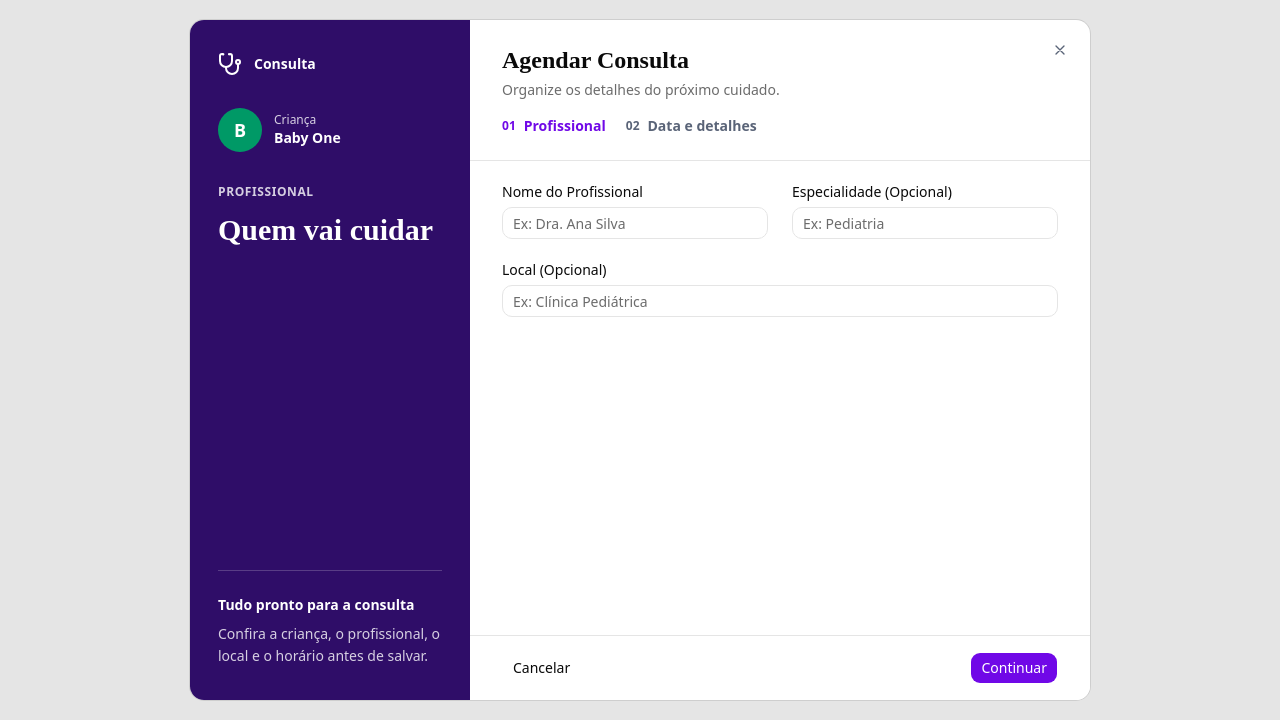
AddAppointmentDialog › não oferece peso e altura enquanto a consulta é um agendamento
Type "Dra. Ana Silva" into the dropdown labelled "Nome do Profissional" at {"x": 635, "y": 223}, box 502,207 -> 768,239
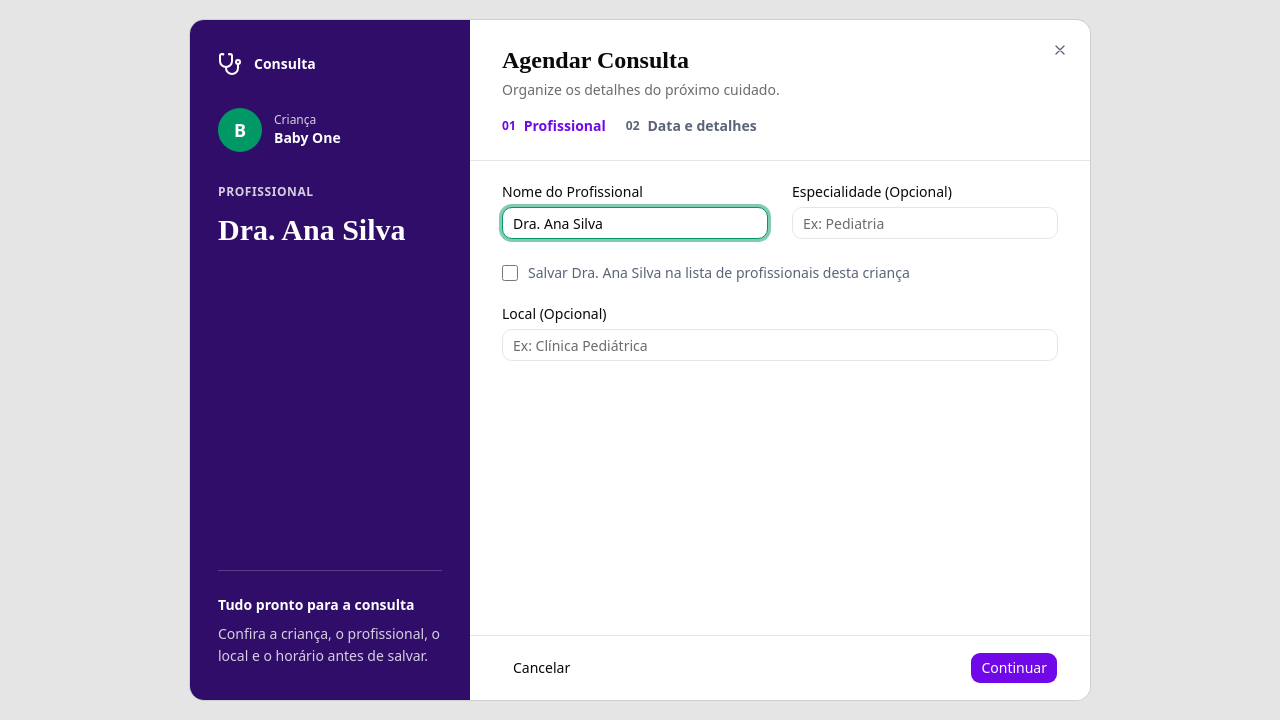
Click the button "Continuar" at {"x": 1014, "y": 668}, box 970,652 -> 1058,684
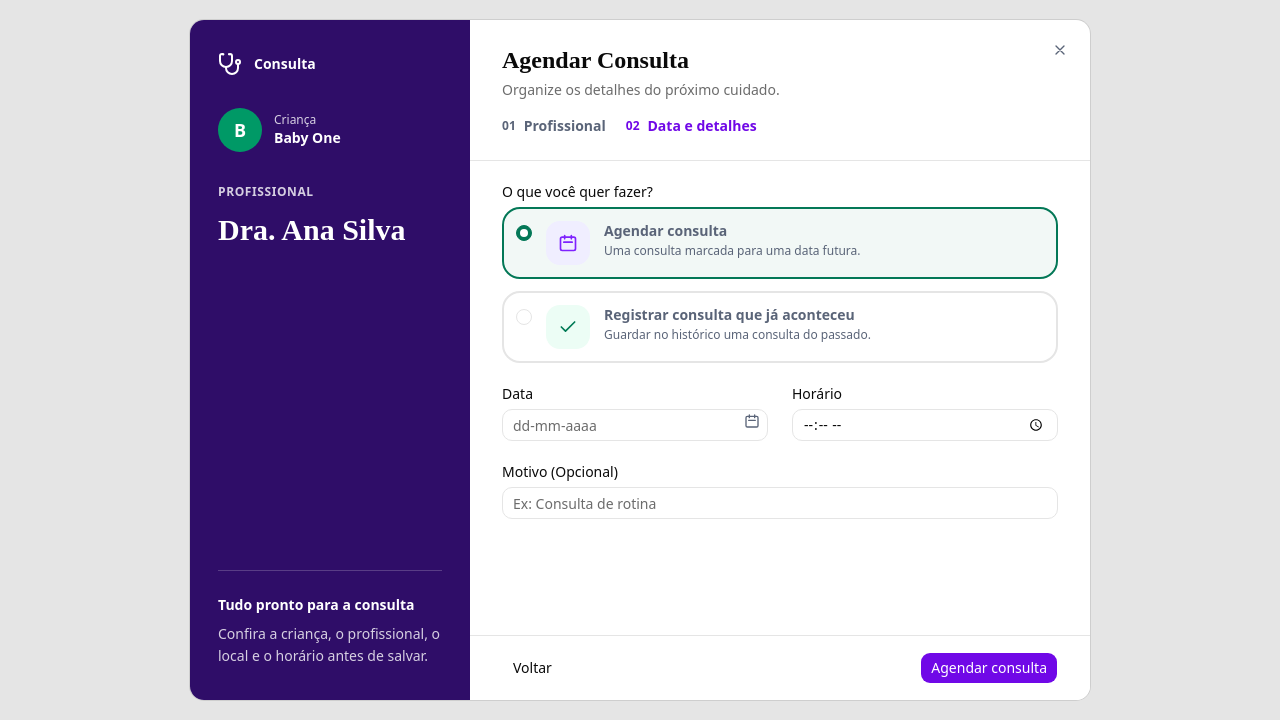
Expected: the field labelled "Peso (kg)" is not shown
Result: the field labelled "Data" is shown at 502,409 -> 768,441
Click the radio button named "Registrar consulta que já aconteceu" next to "Registrar consulta que já aconteceu" at {"x": 524, "y": 317}, box 516,309 -> 532,325
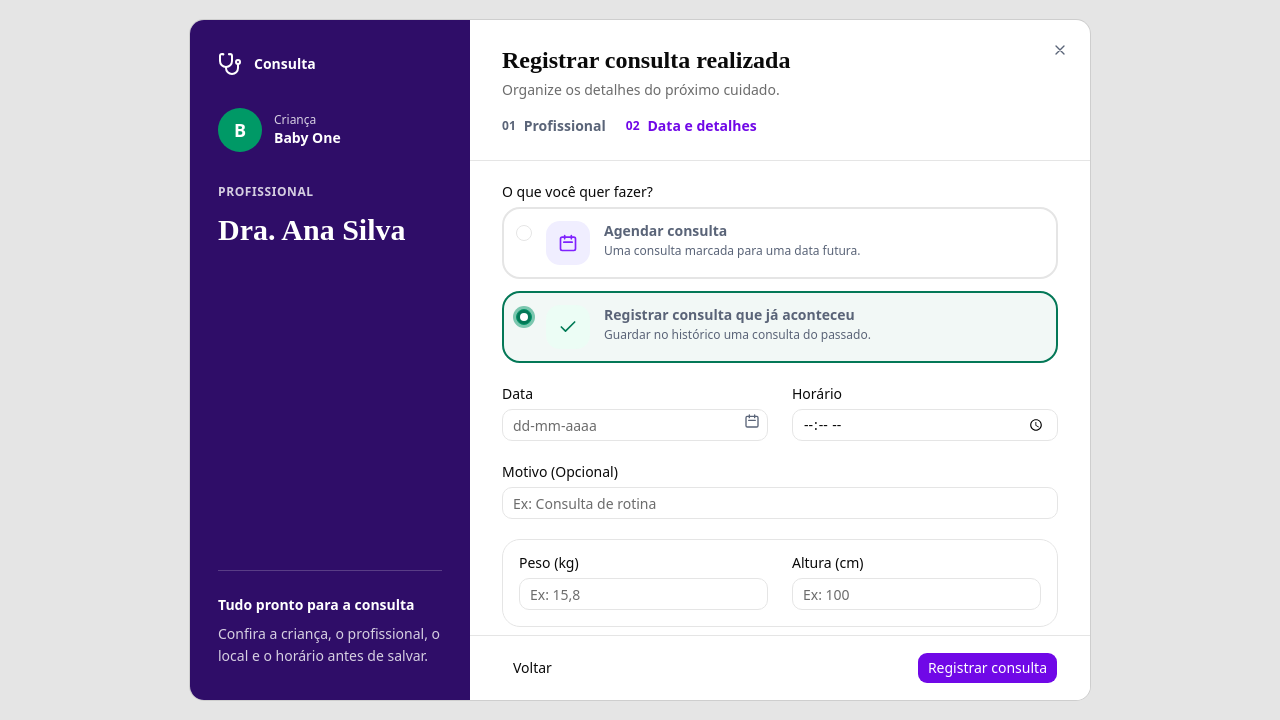
Result: the field labelled "Peso (kg)" is shown at 519,578 -> 768,610
